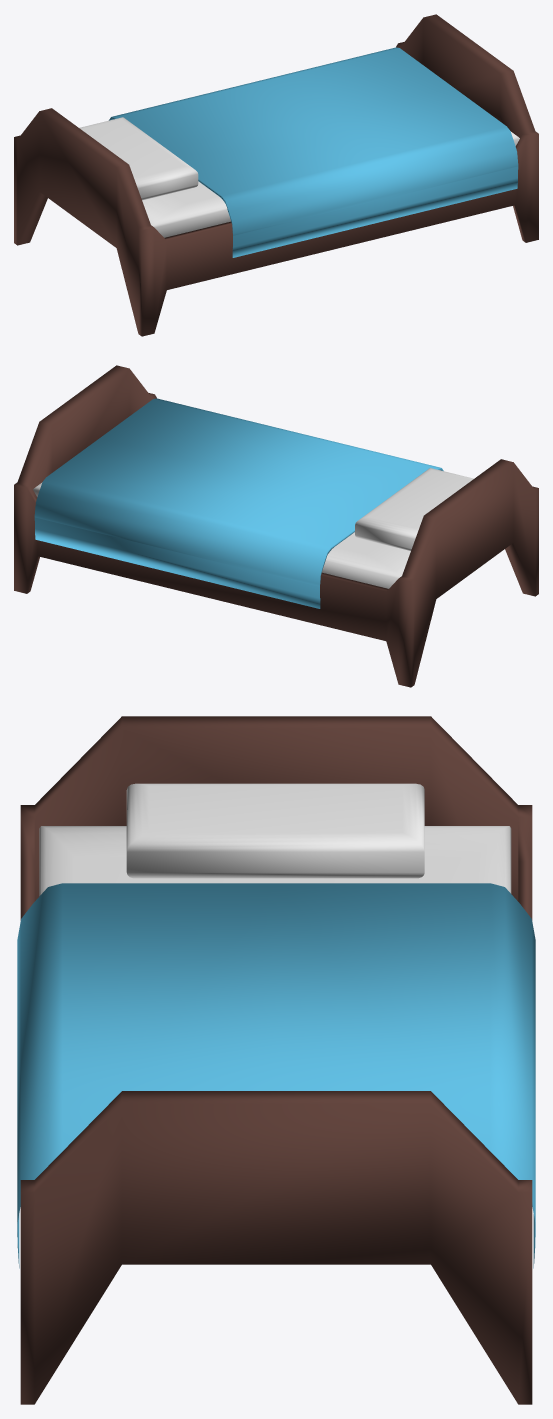
The model's file is Bed.fbx.
The picture shows the model from 3 angles, top to bottom: view 1: azimuth 30°, elevation 25°; view 2: azimuth 150°, elevation 25°; view 3: azimuth 270°, elevation 25°; orthographic projection. The views are drawn at different scales.
Parts seen in each view (by area): view 1: Cube.007, Cube.004, Cube.006, Cube.005; view 2: Cube.007, Cube.004, Cube.006, Cube.005; view 3: Cube.004, Cube.007, Cube.006, Cube.005.
Boxes of the visible parts, x1=… form: Cube.007: x1=109, y1=47, x2=518, y2=257; Cube.004: x1=14, y1=14, x2=538, y2=336; Cube.006: x1=79, y1=117, x2=198, y2=200; Cube.005: x1=142, y1=131, x2=519, y2=237; Cube.007: x1=34, y1=398, x2=443, y2=608; Cube.004: x1=14, y1=365, x2=538, y2=687; Cube.006: x1=355, y1=468, x2=473, y2=550; Cube.005: x1=33, y1=482, x2=410, y2=588; Cube.004: x1=20, y1=716, x2=532, y2=1404; Cube.007: x1=17, y1=883, x2=535, y2=1268; Cube.006: x1=126, y1=783, x2=424, y2=878; Cube.005: x1=39, y1=826, x2=511, y2=895.
Size of the model in its own units: 656 by 237 by 371.
